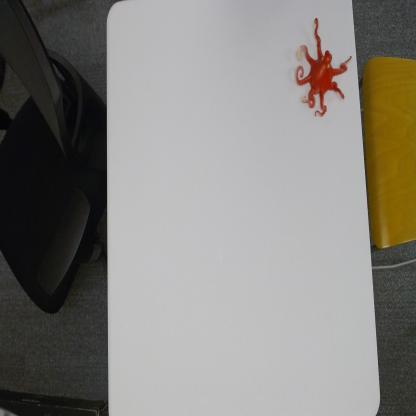Octopus: (296, 16, 353, 120)
